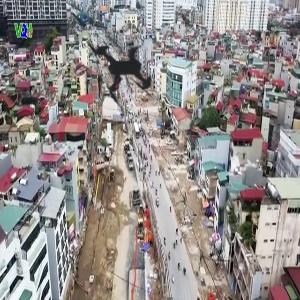drone: (58, 8, 186, 136)
